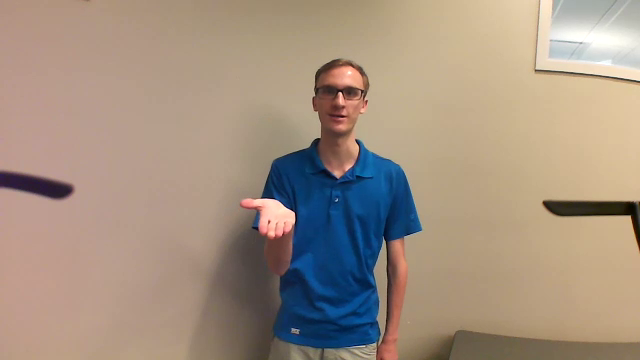land: (233, 187, 308, 246)
